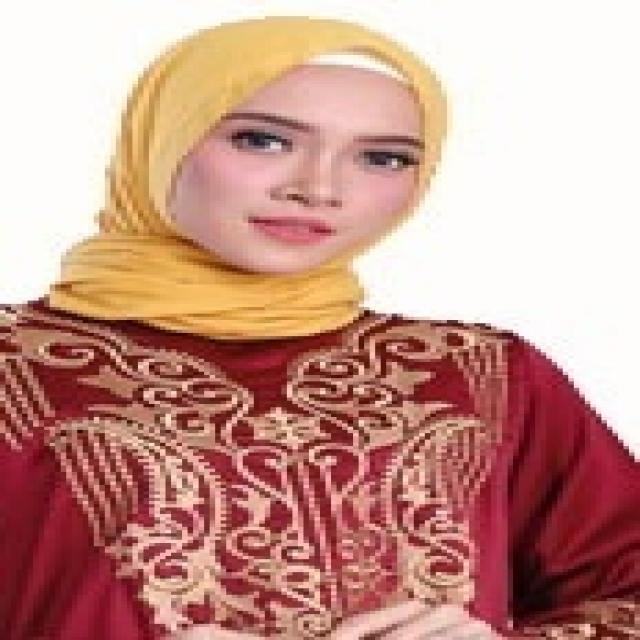head: (119, 17, 446, 279)
